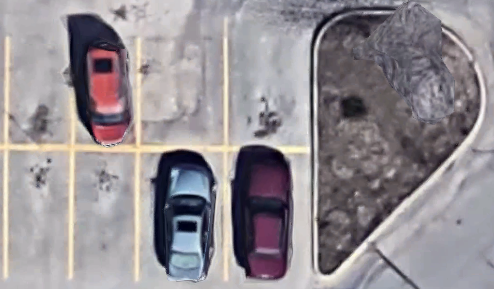Occupied: (138, 148, 227, 278), (226, 149, 314, 278), (72, 34, 139, 148)
Vacant: (225, 34, 314, 149), (139, 34, 225, 148), (6, 147, 72, 279), (71, 148, 137, 278), (6, 35, 72, 147)
